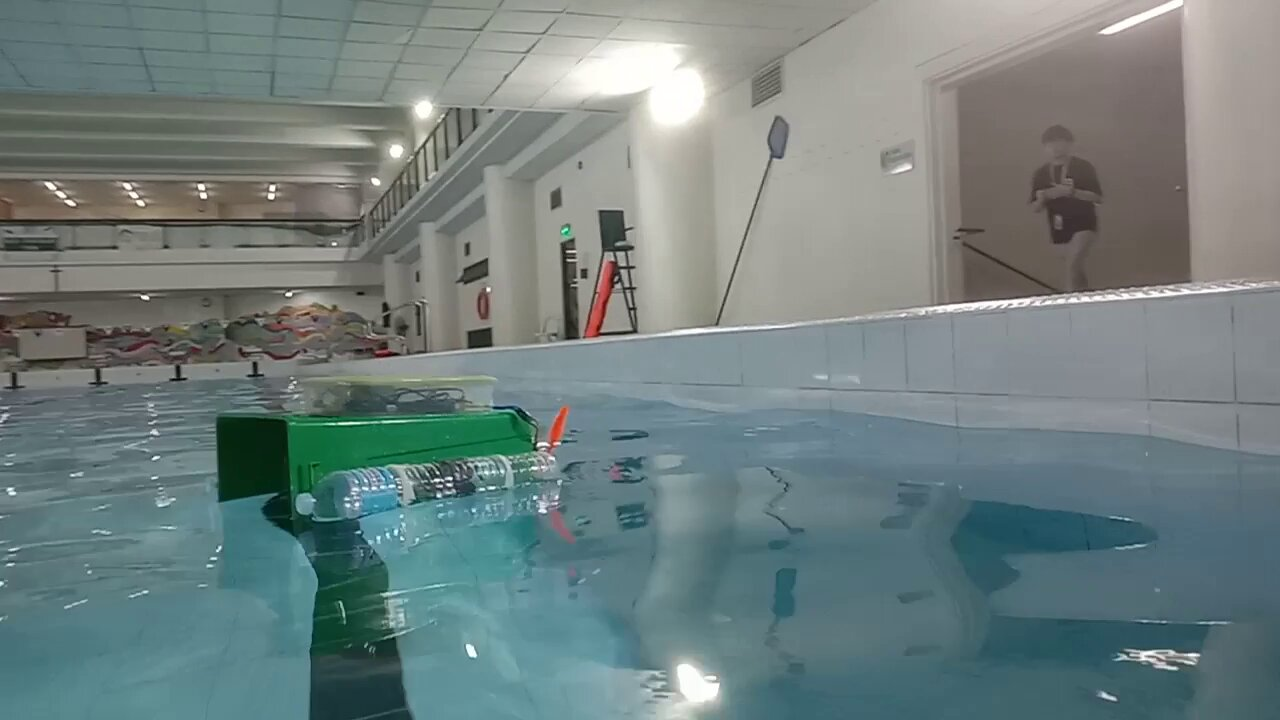drone: (215, 377, 569, 525)
